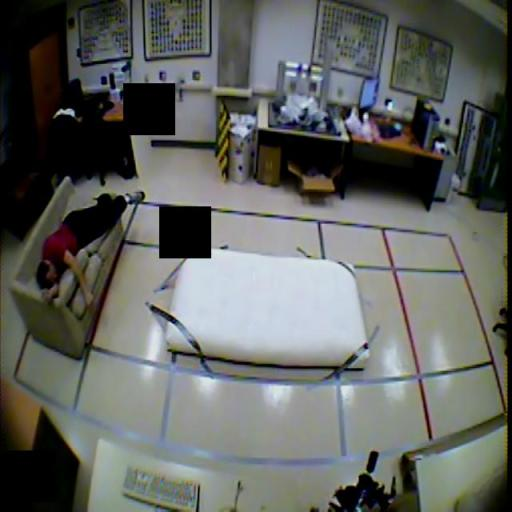Fall: (35, 189, 145, 308)
